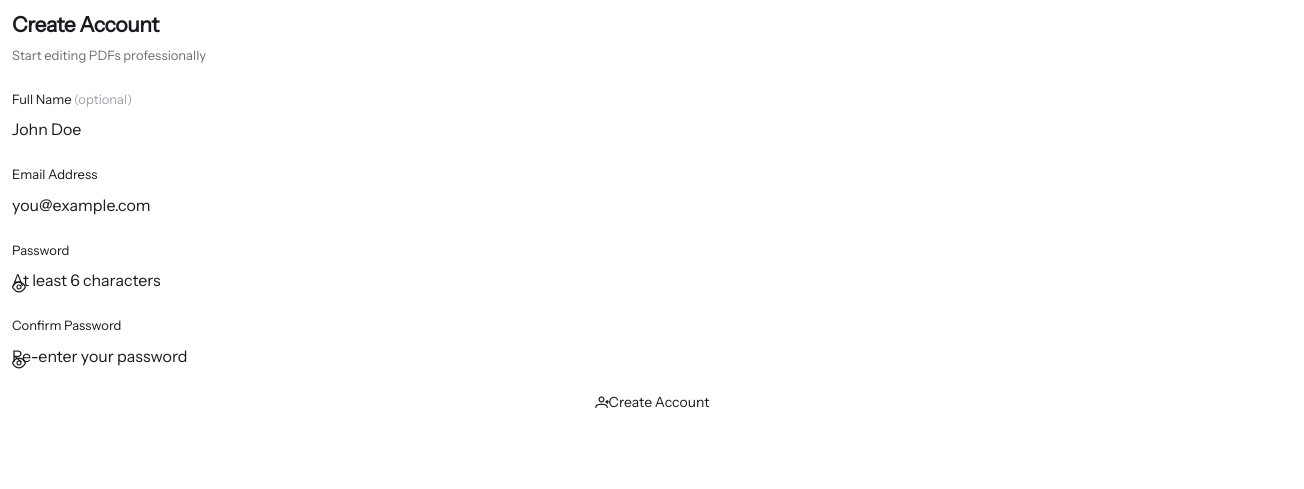
it: RegisterForm › should validate email format
Type "invalid" into the field labelled "Email Address". click: (652, 205)
box: [12, 193, 1292, 217]
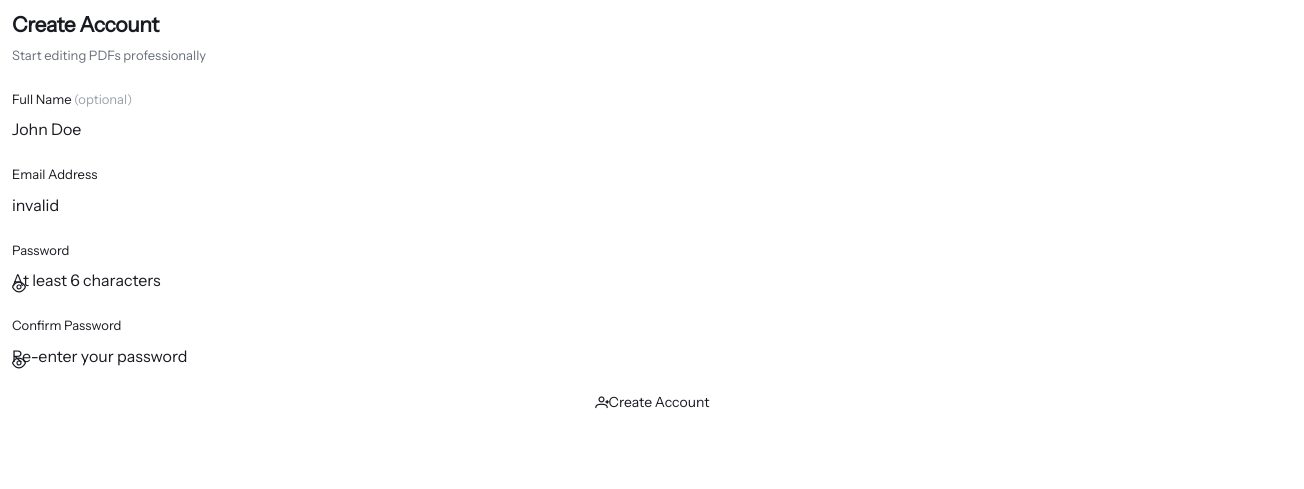
Submit the form
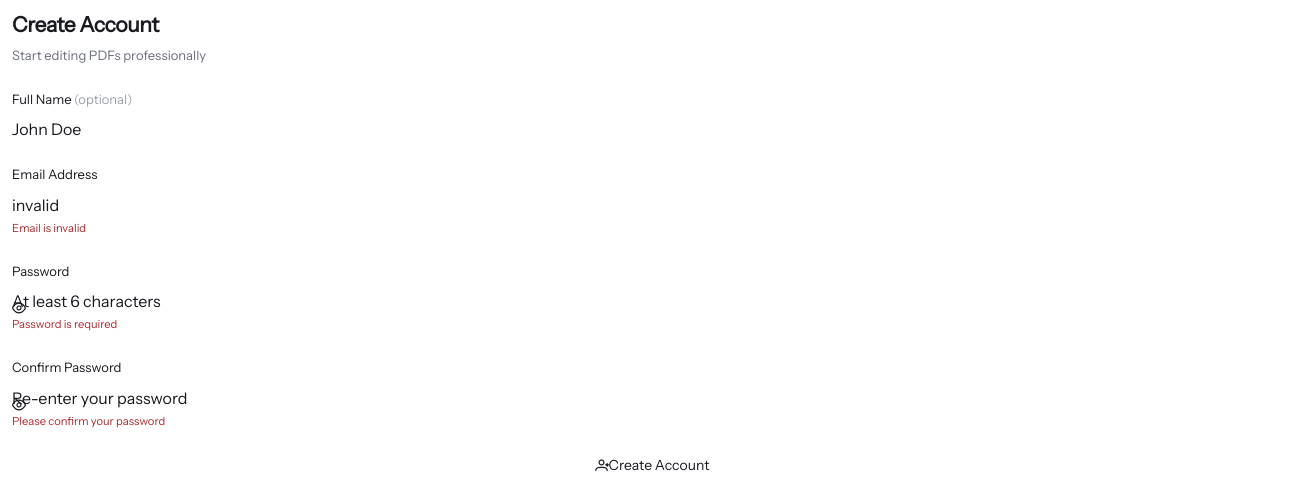
Expected: the form shows "Email is invalid", [12, 221, 86, 235]
